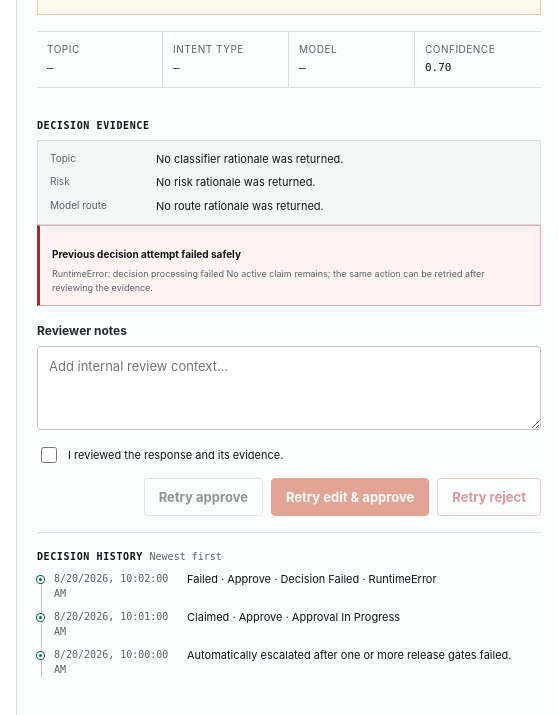
Operations surfaces › keeps a safely failed review decision visible and retryable
This screenshot has width=558, height=715.
(page scrolled)
Expected: the message shows "Previous decision attempt failed safely", [52,248,241,260]
Expected: the button "Retry approve" is disabled, [144,478,263,516]
Click the checkbox: x=49, y=456 [41,448,57,464]
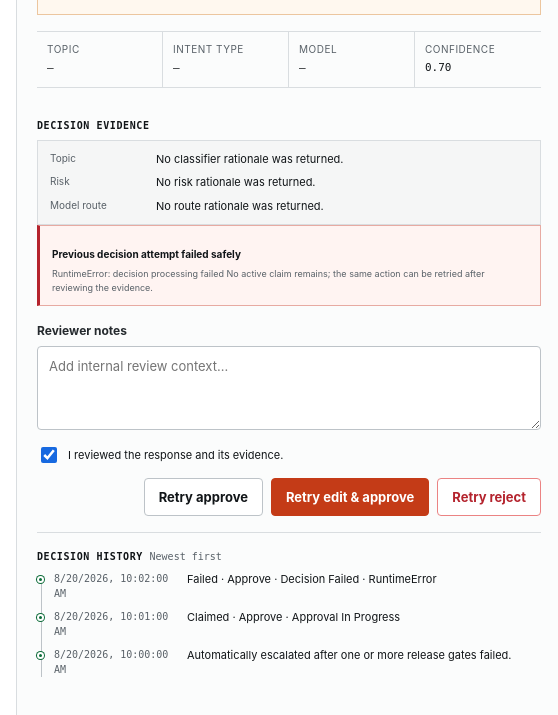
Expected: the list item that starts with "8/20/2026, 10:02:00 AM" shows "Failed · Approve · Decision Failed", [54,572,437,600]
Expected: the button "Retry approve" is enabled, [144,478,263,516]
